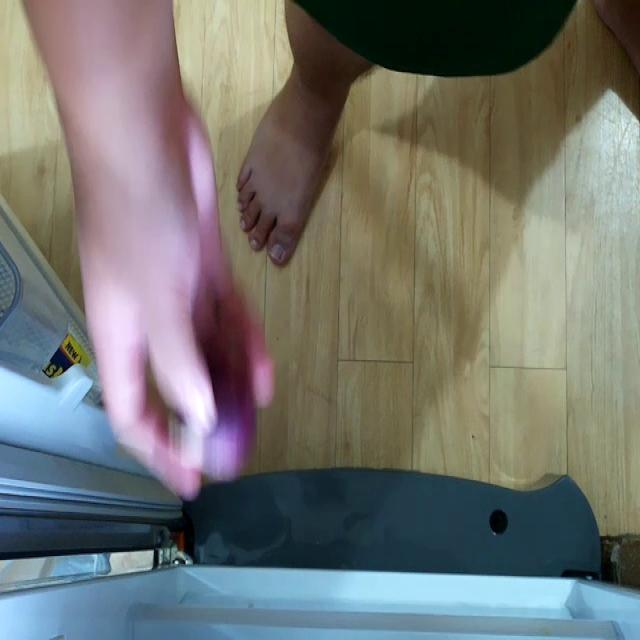onion: (171, 356, 253, 482)
